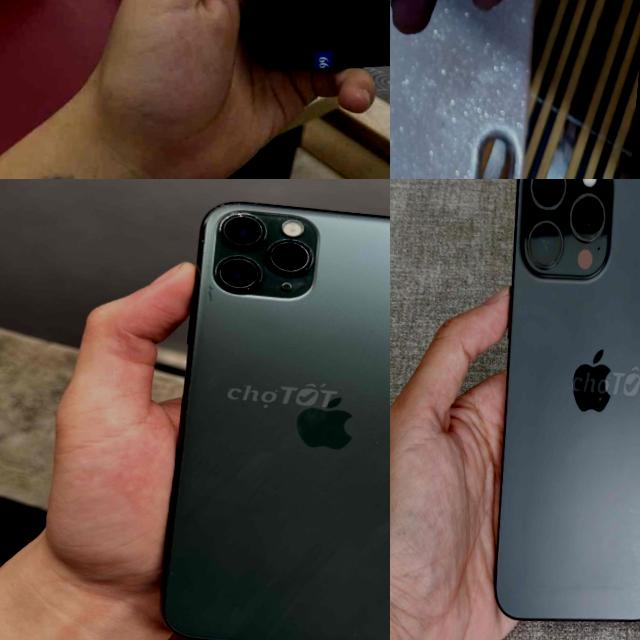gen_11: (151, 188, 390, 640)
gen_14: (207, 0, 390, 81)
gen_15: (457, 179, 640, 640)
